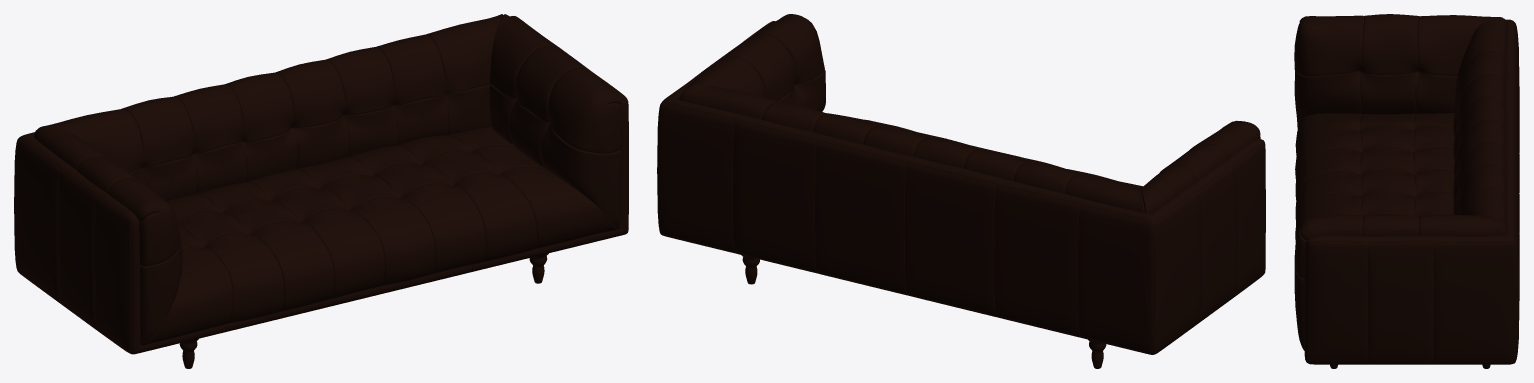
The model's file is sofa.glb.
The picture shows the model from 3 angles, left to right: view 1: azimuth 30°, elevation 25°; view 2: azimuth 150°, elevation 25°; view 3: azimuth 270°, elevation 25°; orthographic projection. The views are drawn at different scales.
Visible parts, largest first — view 1: Sofa; view 2: Sofa; view 3: Sofa.
Boxes of the visible parts, left/top/right/bottom form: Sofa: left=14, top=14, right=628, bottom=368; Sofa: left=657, top=14, right=1265, bottom=368; Sofa: left=1294, top=14, right=1519, bottom=368.
Bounding box in the file's own units: 79.58 × 28.55 × 33.46.
